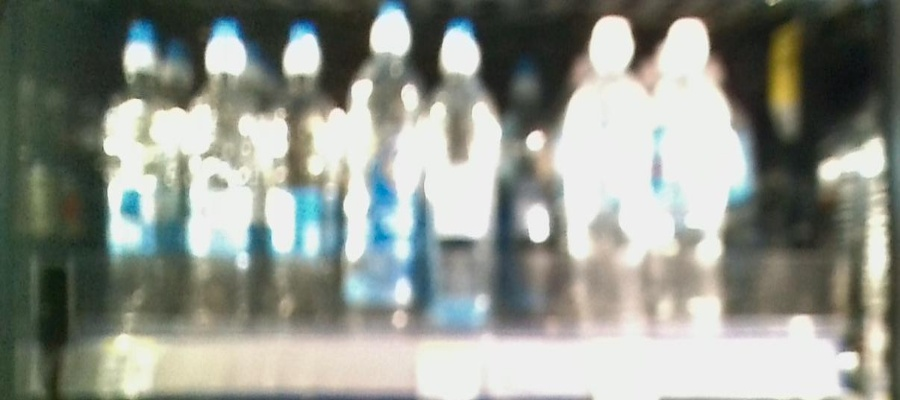bottle: (99, 20, 188, 339), (566, 18, 654, 335), (349, 5, 425, 335), (268, 21, 345, 339), (429, 18, 504, 340), (658, 20, 734, 329), (191, 19, 262, 336)
